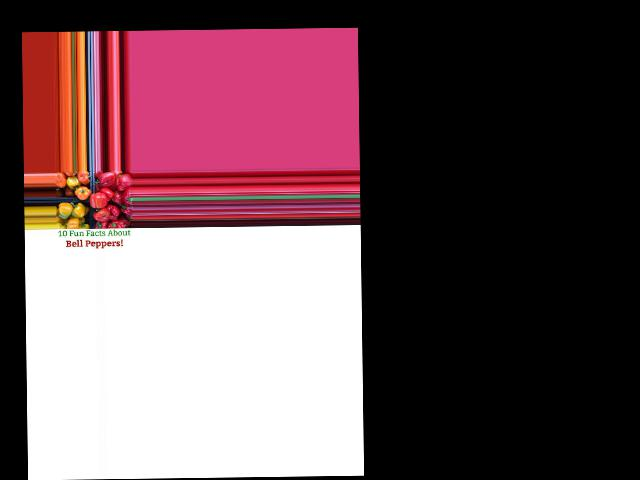bell_pepper: (103, 216, 125, 230)
